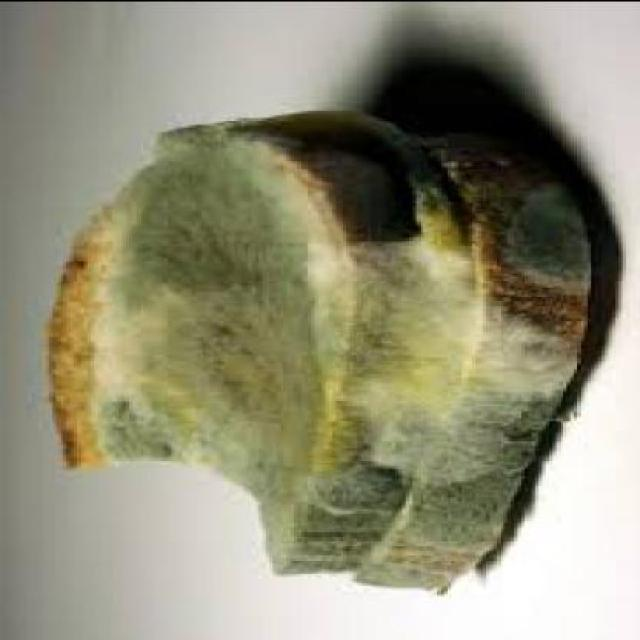BIODEGRADABLE: (42, 108, 482, 572), (346, 123, 591, 586)
